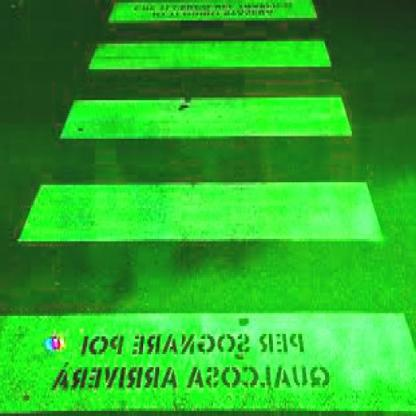crosswalk: (14, 84, 388, 252)
